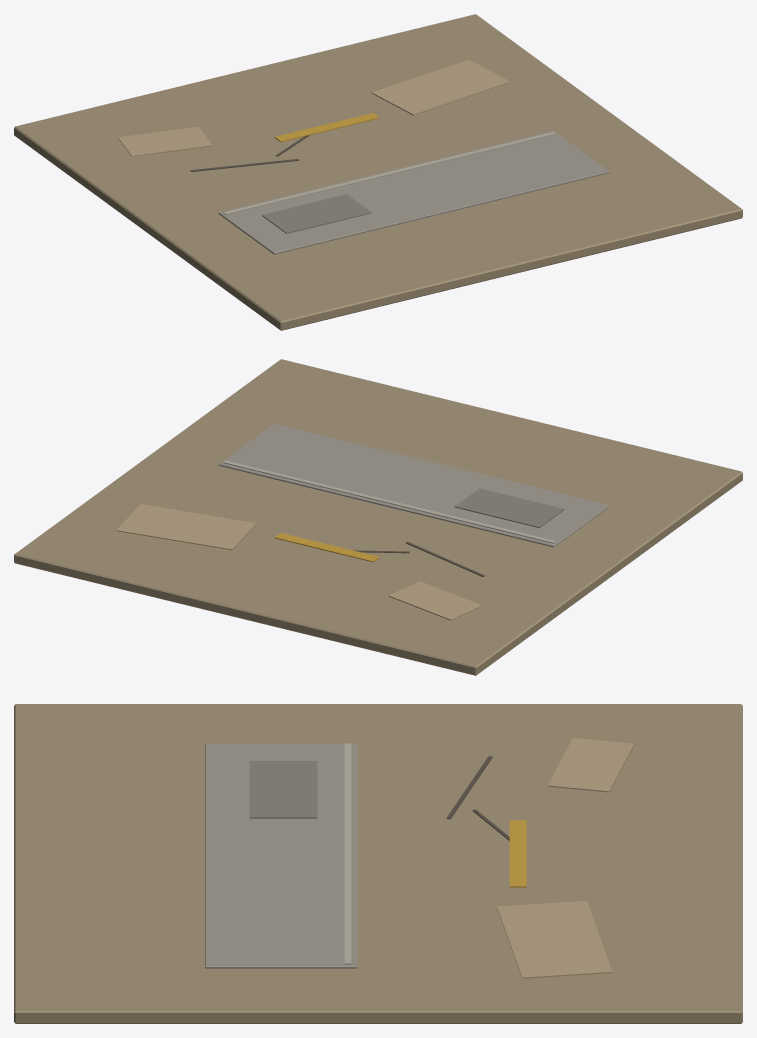
Rendered from ENV_GroundConcrete_Module.glb.
3 views of the same model, one above another, from view 1: azimuth 30°, elevation 25°; view 2: azimuth 150°, elevation 25°; view 3: azimuth 270°, elevation 25° (orthographic). The views are drawn at different scales.
Visible parts, largest first — view 1: Ground_Slab, Concrete_Patch, Dust_Patch_A, Concrete_Wear, Dust_Patch_B, Concrete_Seam, Route_Mark; view 2: Ground_Slab, Concrete_Patch, Dust_Patch_A, Concrete_Wear, Dust_Patch_B, Concrete_Seam, Route_Mark; view 3: Ground_Slab, Concrete_Patch, Dust_Patch_A, Concrete_Wear, Dust_Patch_B, Concrete_Seam, Route_Mark.
Part boxes in pixels (bbox=[...]): Ground_Slab: bbox=[14, 14, 742, 330]; Concrete_Patch: bbox=[218, 131, 609, 254]; Dust_Patch_A: bbox=[371, 60, 510, 115]; Concrete_Wear: bbox=[262, 194, 371, 233]; Dust_Patch_B: bbox=[118, 126, 212, 156]; Concrete_Seam: bbox=[223, 132, 555, 214]; Route_Mark: bbox=[274, 113, 379, 142]; Ground_Slab: bbox=[14, 359, 742, 675]; Concrete_Patch: bbox=[218, 423, 609, 547]; Dust_Patch_A: bbox=[116, 504, 256, 550]; Concrete_Wear: bbox=[454, 488, 564, 527]; Dust_Patch_B: bbox=[388, 581, 482, 620]; Concrete_Seam: bbox=[223, 460, 555, 543]; Route_Mark: bbox=[274, 533, 379, 562]; Ground_Slab: bbox=[14, 704, 742, 1023]; Concrete_Patch: bbox=[205, 743, 357, 968]; Dust_Patch_A: bbox=[497, 900, 612, 978]; Concrete_Wear: bbox=[249, 761, 317, 818]; Dust_Patch_B: bbox=[547, 738, 634, 792]; Concrete_Seam: bbox=[344, 743, 351, 964]; Route_Mark: bbox=[509, 820, 526, 887].
Size of the model in its own units: 6 by 0.157 by 6.
